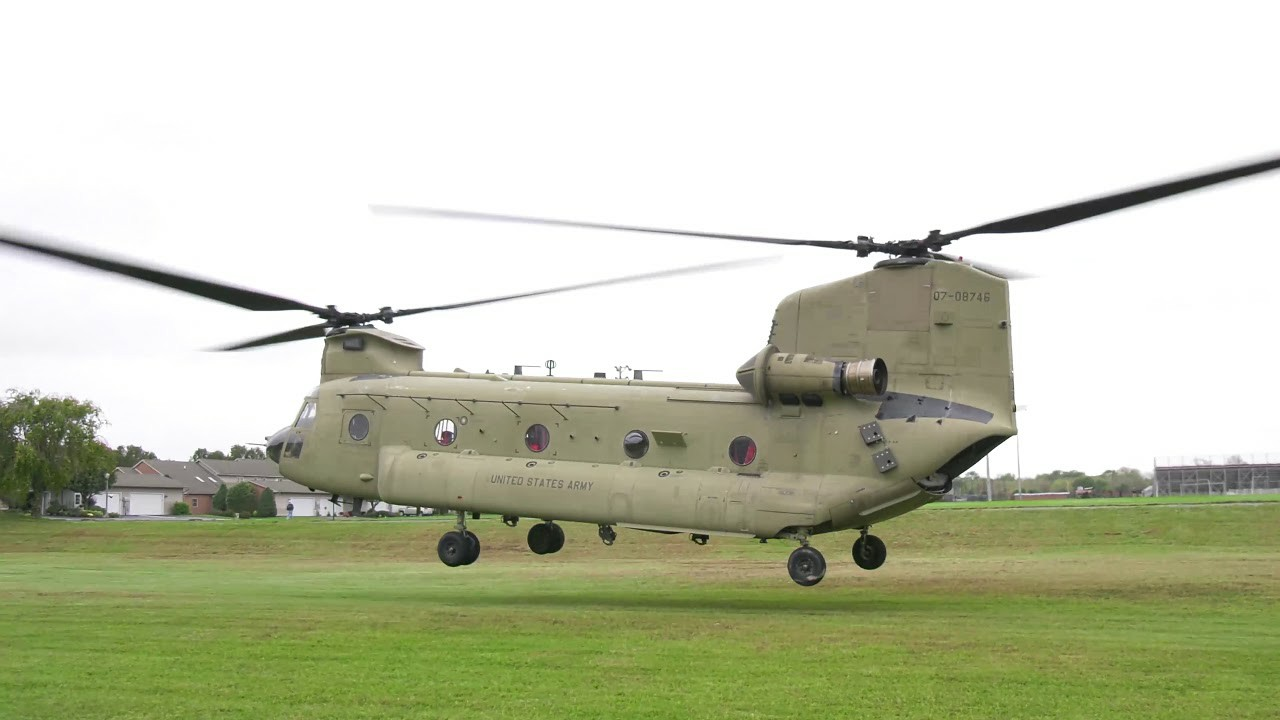chinook: (129, 183, 1194, 587)
